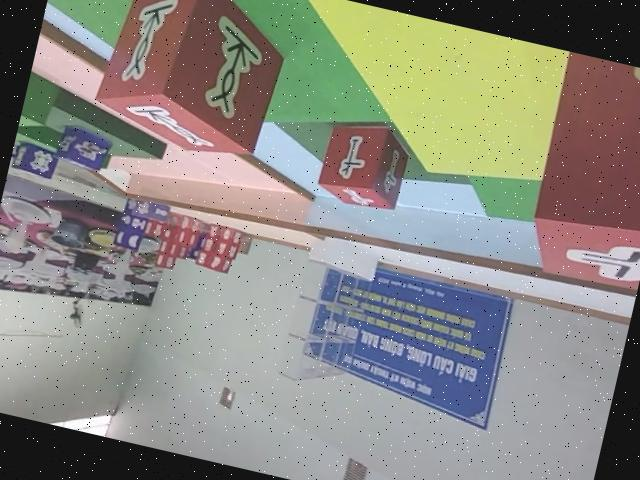R2 Real: (86, 0, 302, 170), (311, 112, 417, 219)
